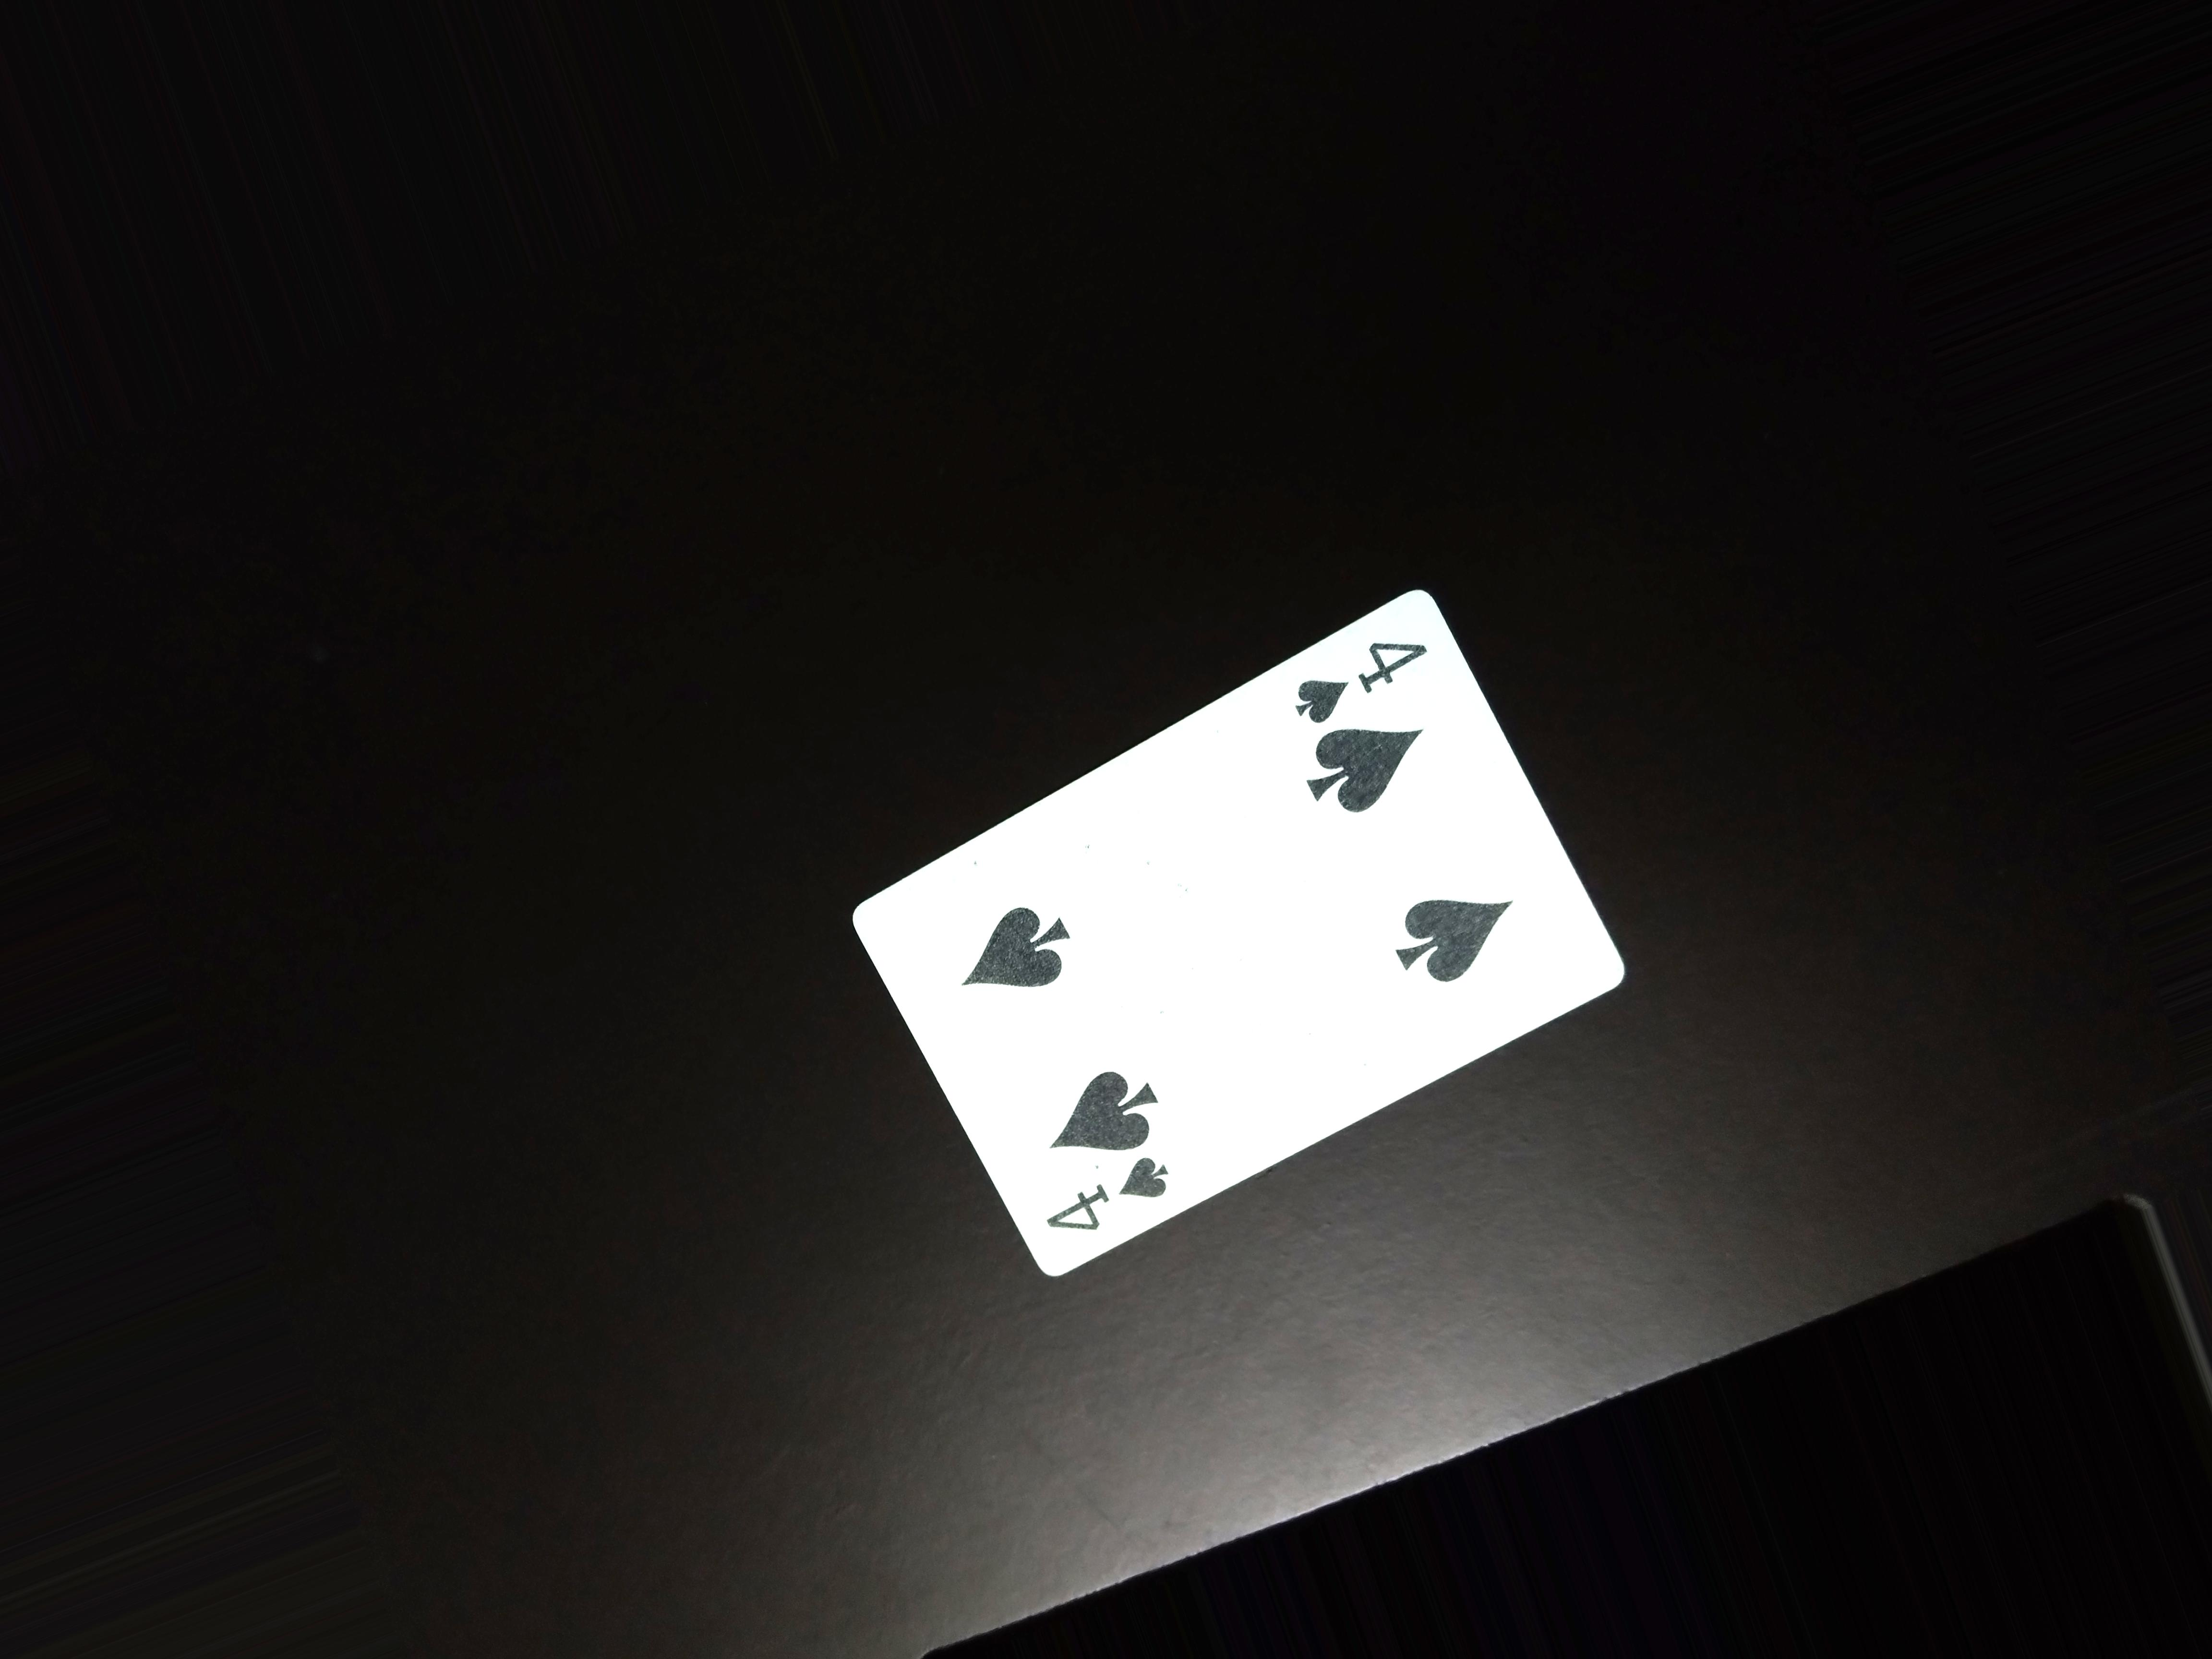4S: (1259, 626, 1425, 728)
